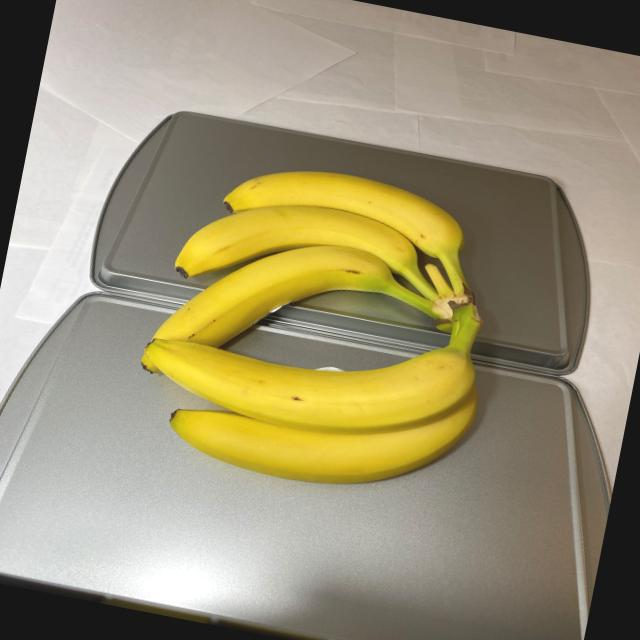banana: (126, 143, 524, 516)
